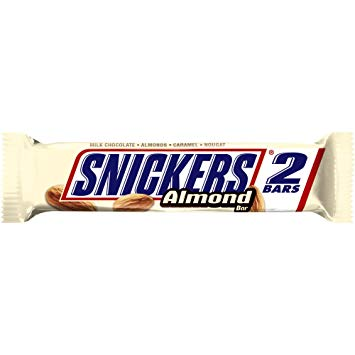snickers: (70, 153, 257, 194)
